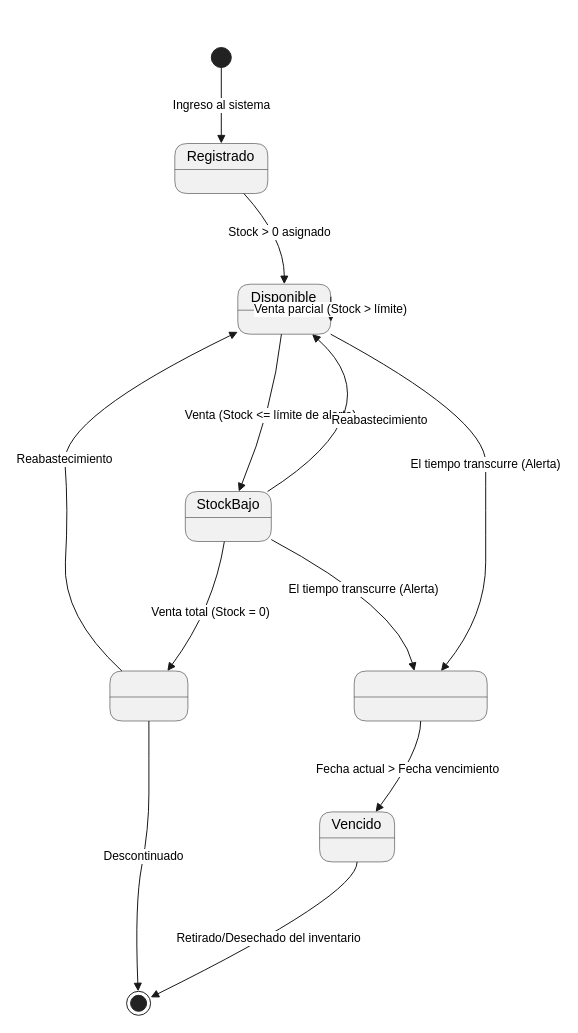
The diagram is 578 pixels wide and 1033 high, and some of its shapes have lost their labels. The box of each missing label's shape, as (x1, y1, x2, y2) in pixels:
Agotado: (109, 670, 188, 721)
ProximoAVencer: (354, 670, 487, 721)
